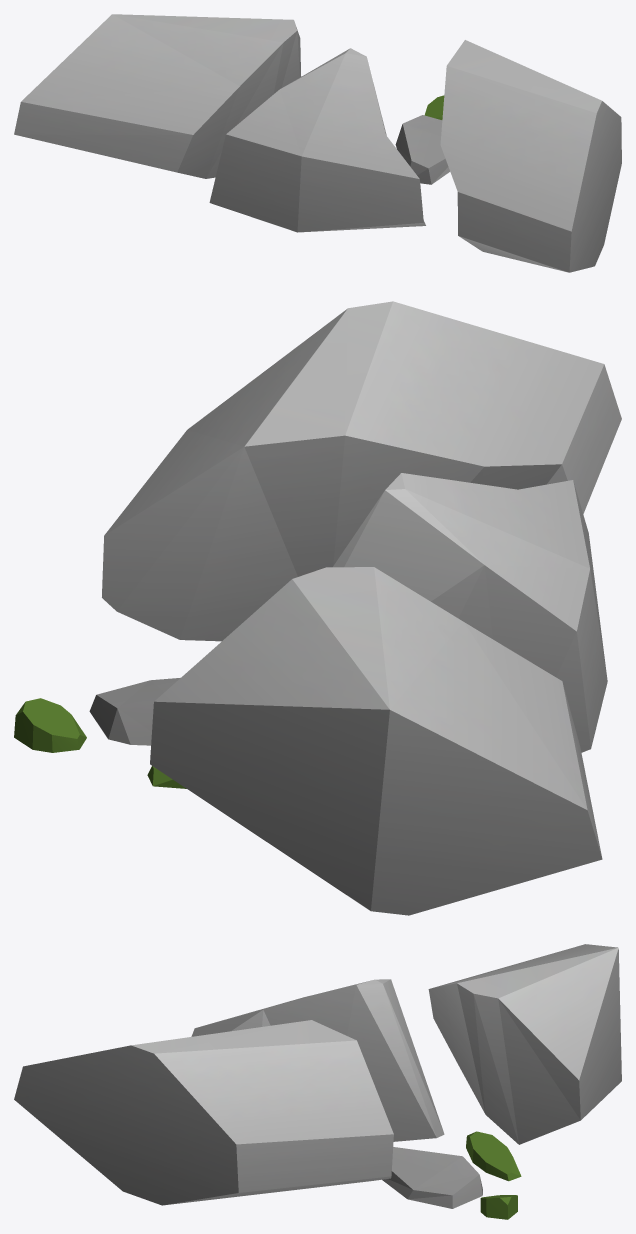
File: CrystalBroke_B.FBX
The picture shows the model from 3 angles, top to bottom: view 1: azimuth 30°, elevation 25°; view 2: azimuth 150°, elevation 25°; view 3: azimuth 270°, elevation 25°; orthographic projection. The views are drawn at different scales.
Parts seen in each view (by area): view 1: CrystalBroke_B-03, CrystalBroke_B-01, CrystalBroke_B-02, CrystalBroke_B-04; view 2: CrystalBroke_B-03, CrystalBroke_B-01, CrystalBroke_B-02, CrystalBroke_B-04, CrystalBroke_B-06; view 3: CrystalBroke_B-01, CrystalBroke_B-03, CrystalBroke_B-02, CrystalBroke_B-04, CrystalBroke_B-05, CrystalBroke_B-06.
Part boxes in pixels (bbox=[...]): CrystalBroke_B-03: bbox=[14, 14, 301, 178]; CrystalBroke_B-01: bbox=[440, 40, 621, 272]; CrystalBroke_B-02: bbox=[209, 48, 425, 232]; CrystalBroke_B-04: bbox=[395, 115, 449, 184]; CrystalBroke_B-03: bbox=[150, 567, 602, 915]; CrystalBroke_B-01: bbox=[102, 301, 621, 641]; CrystalBroke_B-02: bbox=[333, 473, 607, 752]; CrystalBroke_B-04: bbox=[89, 677, 180, 745]; CrystalBroke_B-06: bbox=[14, 698, 86, 752]; CrystalBroke_B-01: bbox=[14, 1020, 393, 1205]; CrystalBroke_B-03: bbox=[428, 944, 621, 1144]; CrystalBroke_B-02: bbox=[191, 979, 444, 1141]; CrystalBroke_B-04: bbox=[382, 1147, 482, 1208]; CrystalBroke_B-05: bbox=[466, 1131, 521, 1181]; CrystalBroke_B-06: bbox=[480, 1195, 517, 1219].
Size of the model in its own units: 135 by 46.01 by 163.
Materials: 2 (2 with a texture image).
